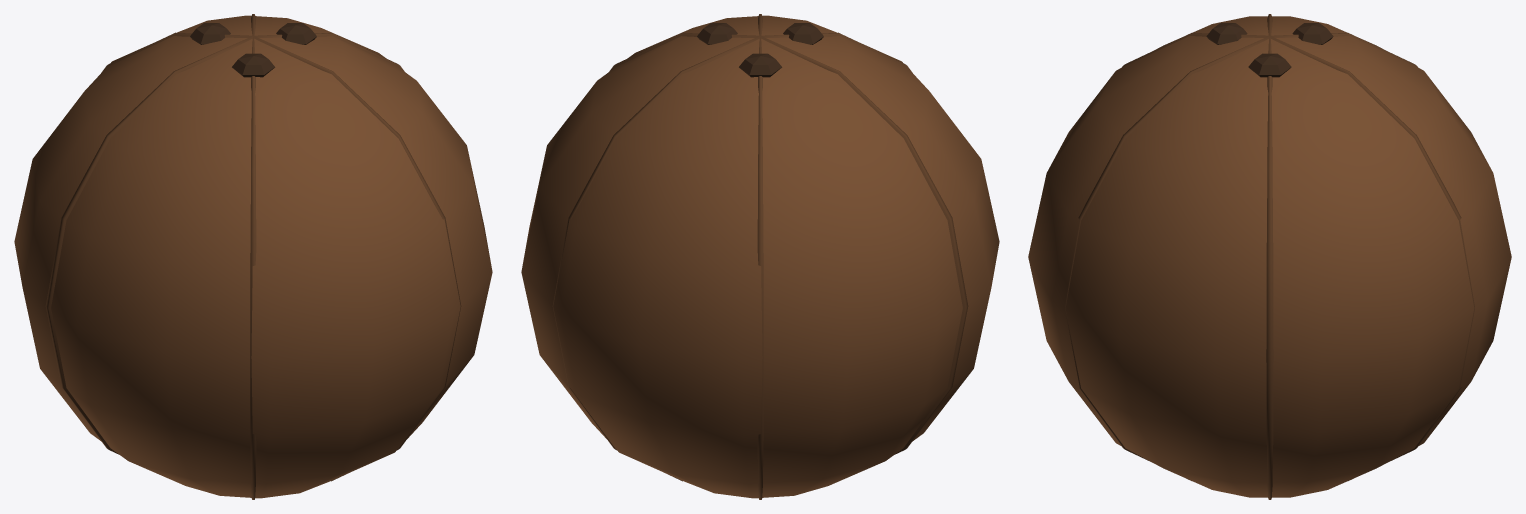
Rendered from Fruto_Coconut.fbx.
3 renders of one model, left to right at view 1: azimuth 30°, elevation 25°; view 2: azimuth 150°, elevation 25°; view 3: azimuth 270°, elevation 25°, orthographic.
Visible parts, largest first — view 1: Produto_Coconut, Cabo_Coconut; view 2: Produto_Coconut, Cabo_Coconut; view 3: Produto_Coconut, Cabo_Coconut.
Boxes of the visible parts, bbox=[...] form: Produto_Coconut: bbox=[14, 14, 492, 499]; Cabo_Coconut: bbox=[190, 23, 316, 77]; Produto_Coconut: bbox=[521, 14, 999, 499]; Cabo_Coconut: bbox=[697, 23, 823, 77]; Produto_Coconut: bbox=[1028, 14, 1511, 499]; Cabo_Coconut: bbox=[1206, 23, 1333, 77].
Size of the model in its own units: 0.9847 by 1.01 by 1.
Materials: 1 (1 with a texture image).
